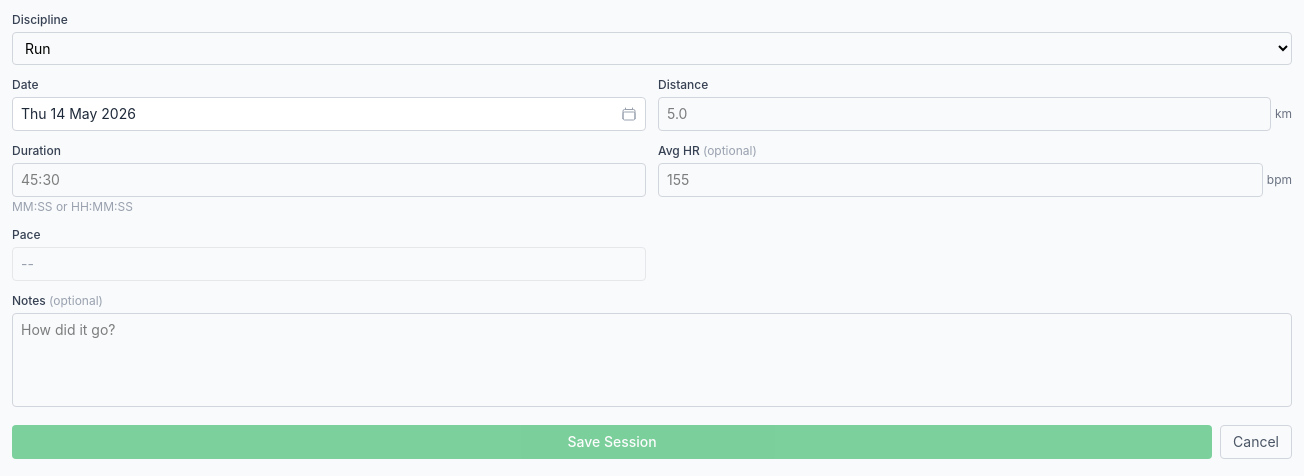
Scenario: RunEntryForm › computes and displays pace live when distance and duration entered
Step 1. Type "5" into the number field with placeholder "5.0" → [964, 114], box top-left (658, 97), bottom-right (1271, 131)
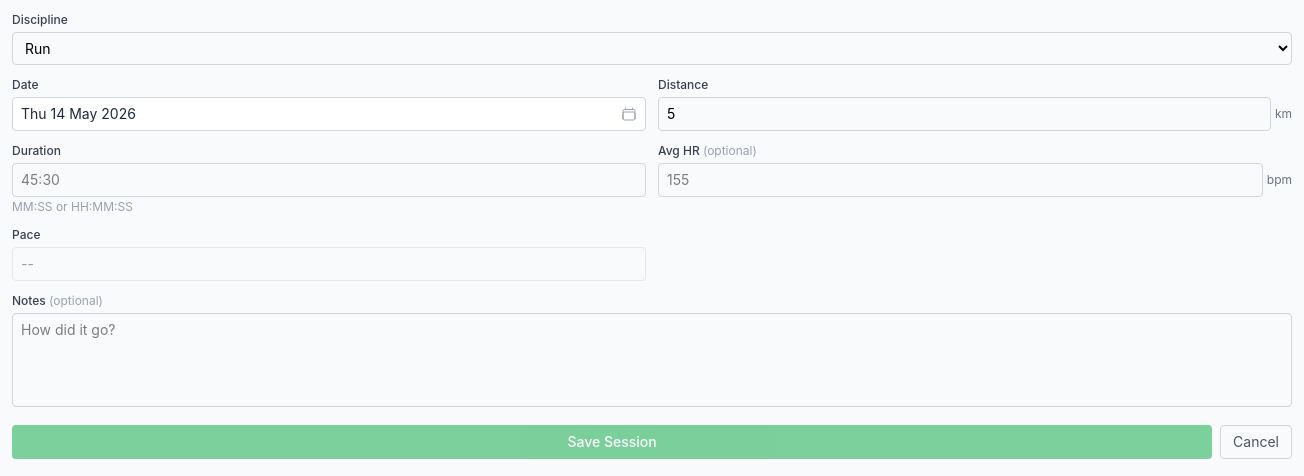
Step 2. Type "25:00" into the field with placeholder "45:30" → [329, 180], box top-left (12, 163), bottom-right (646, 197)
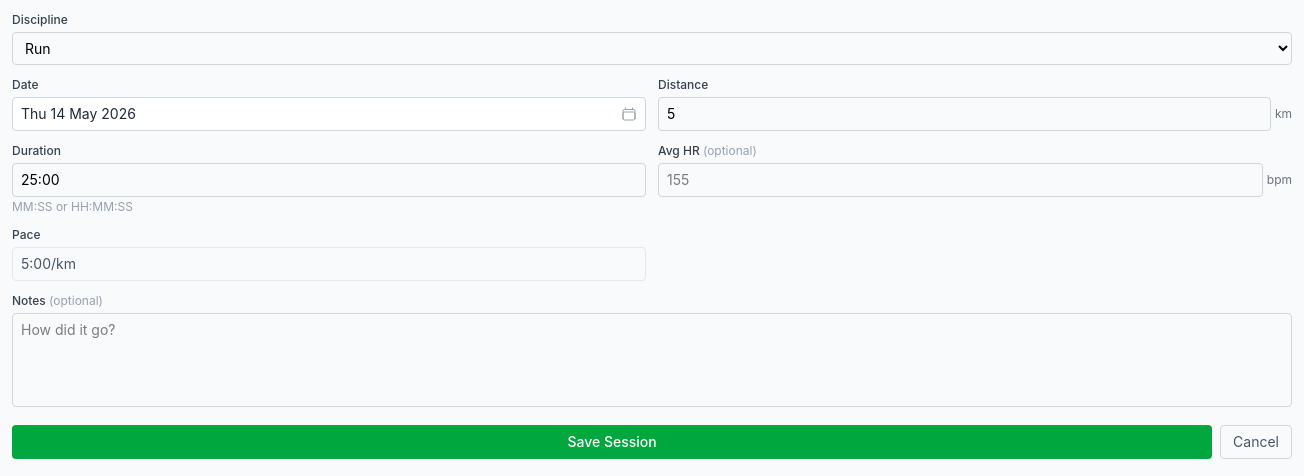
Expected: the text "5:00/km" is shown, top-left (12, 247), bottom-right (646, 281)
